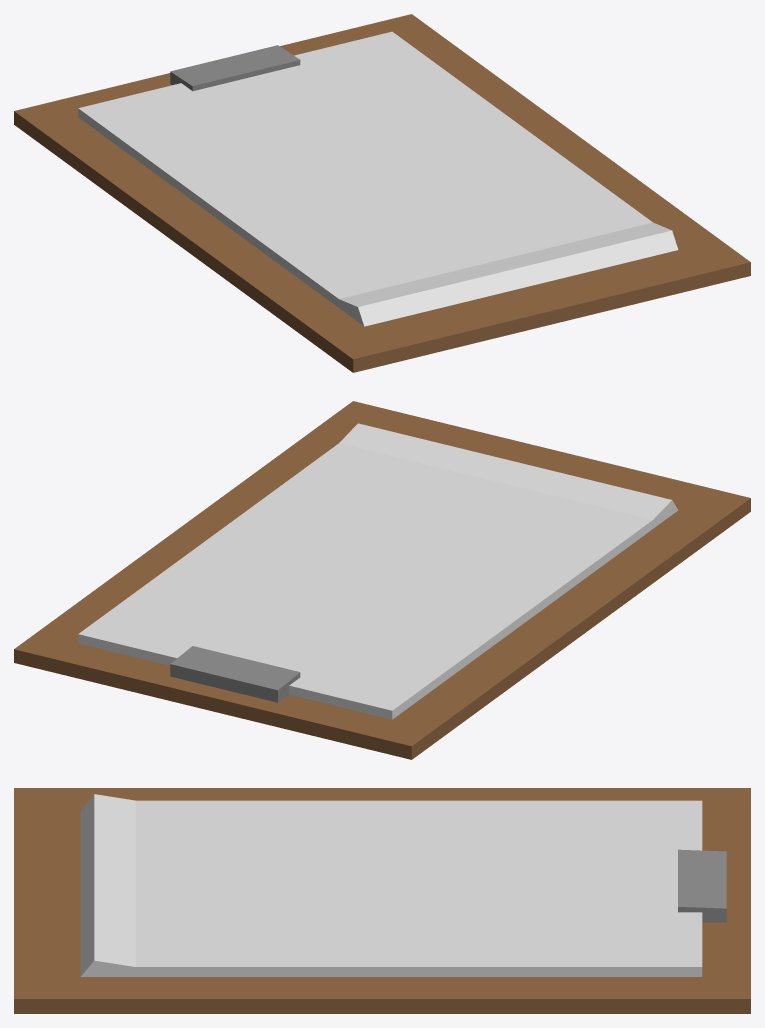
The model's file is Notepad.fbx.
3 views of the same model, one above another, from view 1: azimuth 30°, elevation 25°; view 2: azimuth 150°, elevation 25°; view 3: azimuth 270°, elevation 25° (orthographic). The views are drawn at different scales.
Parts seen in each view (by area): view 1: Notepad; view 2: Notepad; view 3: Notepad.
Boxes of the visible parts, box(x1,y1,x2,y2) form: Notepad: box(14, 14, 750, 372); Notepad: box(14, 401, 750, 759); Notepad: box(14, 788, 750, 1013).
Bounding box in the file's own units: 20.98 × 1.44 × 30.98.
